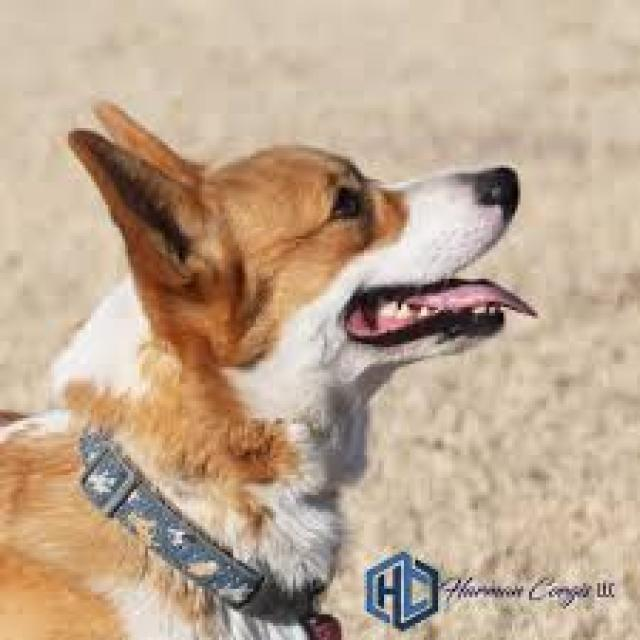CORGI: (0, 96, 517, 640)
